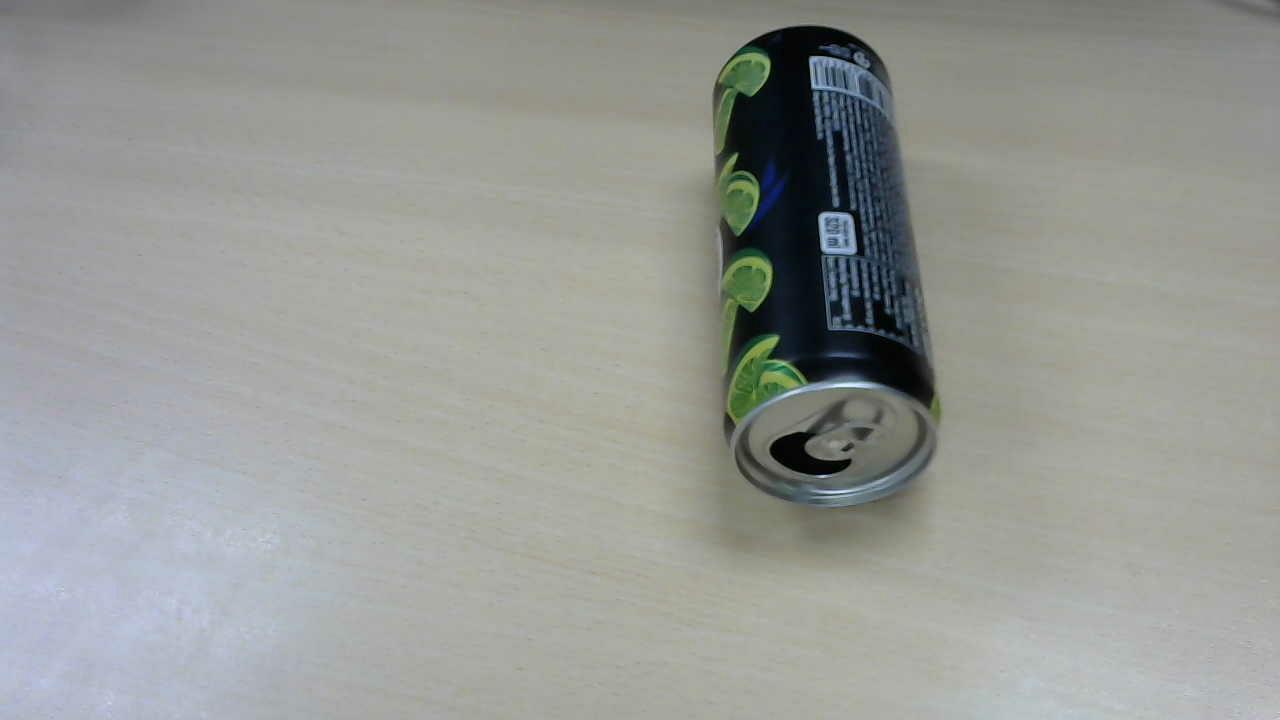Pepsi: (716, 29, 951, 511)
